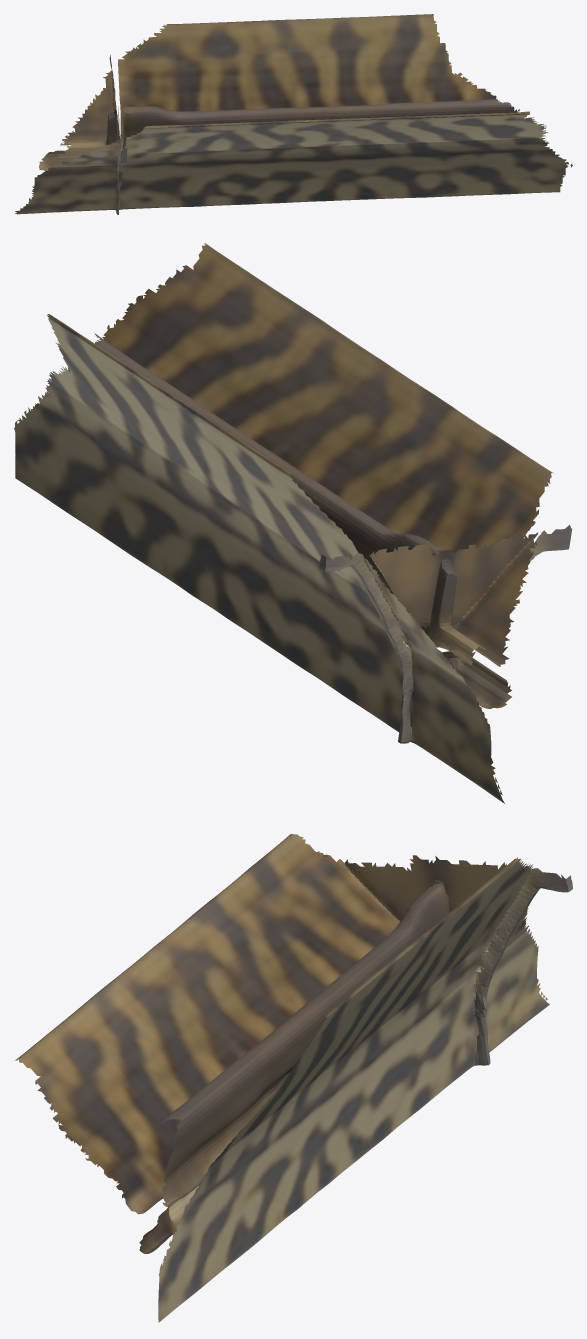
The model's file is guard-center.glb.
3 renders of one model, top to bottom at view 1: azimuth 30°, elevation 25°; view 2: azimuth 150°, elevation 25°; view 3: azimuth 270°, elevation 25°, orthographic. The views are drawn at different scales.
Visible parts, largest first — view 1: geometry_0; view 2: geometry_0; view 3: geometry_0.
Boxes of the visible parts, left/top/right/bottom form: geometry_0: left=15, top=14, right=572, bottom=214; geometry_0: left=14, top=243, right=571, bottom=803; geometry_0: left=15, top=833, right=572, bottom=1322.
Size of the model in its own units: 2.44 by 0.8975 by 1.72.
